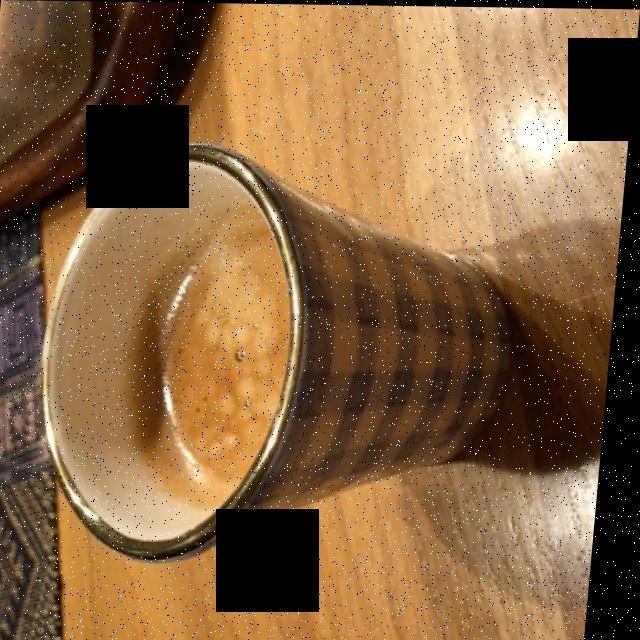coffee: (157, 208, 290, 494)
espresso: (150, 201, 287, 495)
